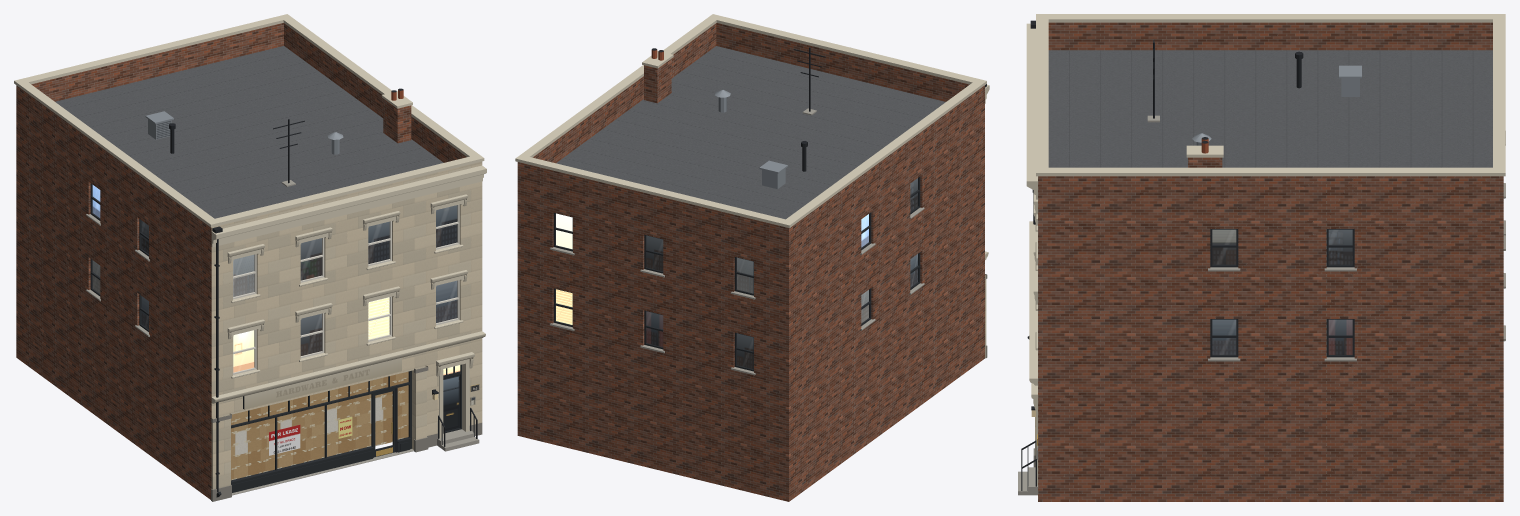
File: ForLease.fbx
3 views of the same model, side by side, from view 1: azimuth 30°, elevation 25°; view 2: azimuth 150°, elevation 25°; view 3: azimuth 270°, elevation 25° (orthographic). The views are drawn at different scales.
Parts seen in each view (by area): view 1: ForLease_Mesh; view 2: ForLease_Mesh; view 3: ForLease_Mesh.
Boxes of the visible parts, left/top/right/bottom form: ForLease_Mesh: left=14, top=14, right=486, bottom=501; ForLease_Mesh: left=515, top=14, right=989, bottom=501; ForLease_Mesh: left=1018, top=14, right=1505, bottom=501.
Size of the model in its own units: 12.14 by 13.33 by 15.71.
